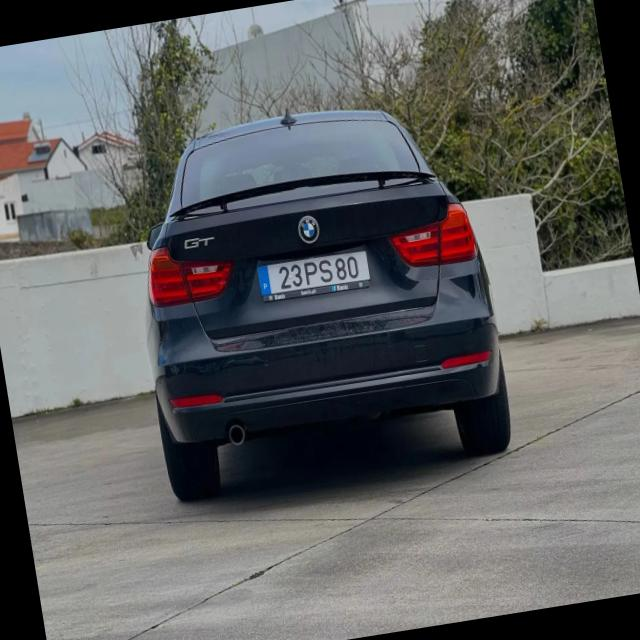portuguese-license-plates: (255, 245, 375, 306)
